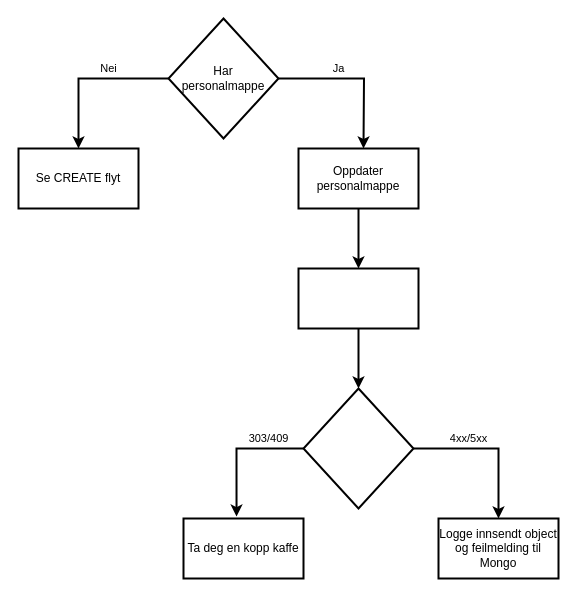
This 576x596 diagram has some shape labels left out. The shapes that lost their labels are listed below. From the top down, each one's centre as x and y in pixels, then its label:
(x=358, y=298): Lagre status URL
(x=358, y=448): Spør status
